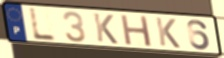3: (62, 10, 87, 43)
6: (186, 19, 212, 51)
H: (119, 13, 154, 48)
K: (154, 16, 182, 50), (92, 12, 120, 46)
L: (28, 7, 59, 42)
